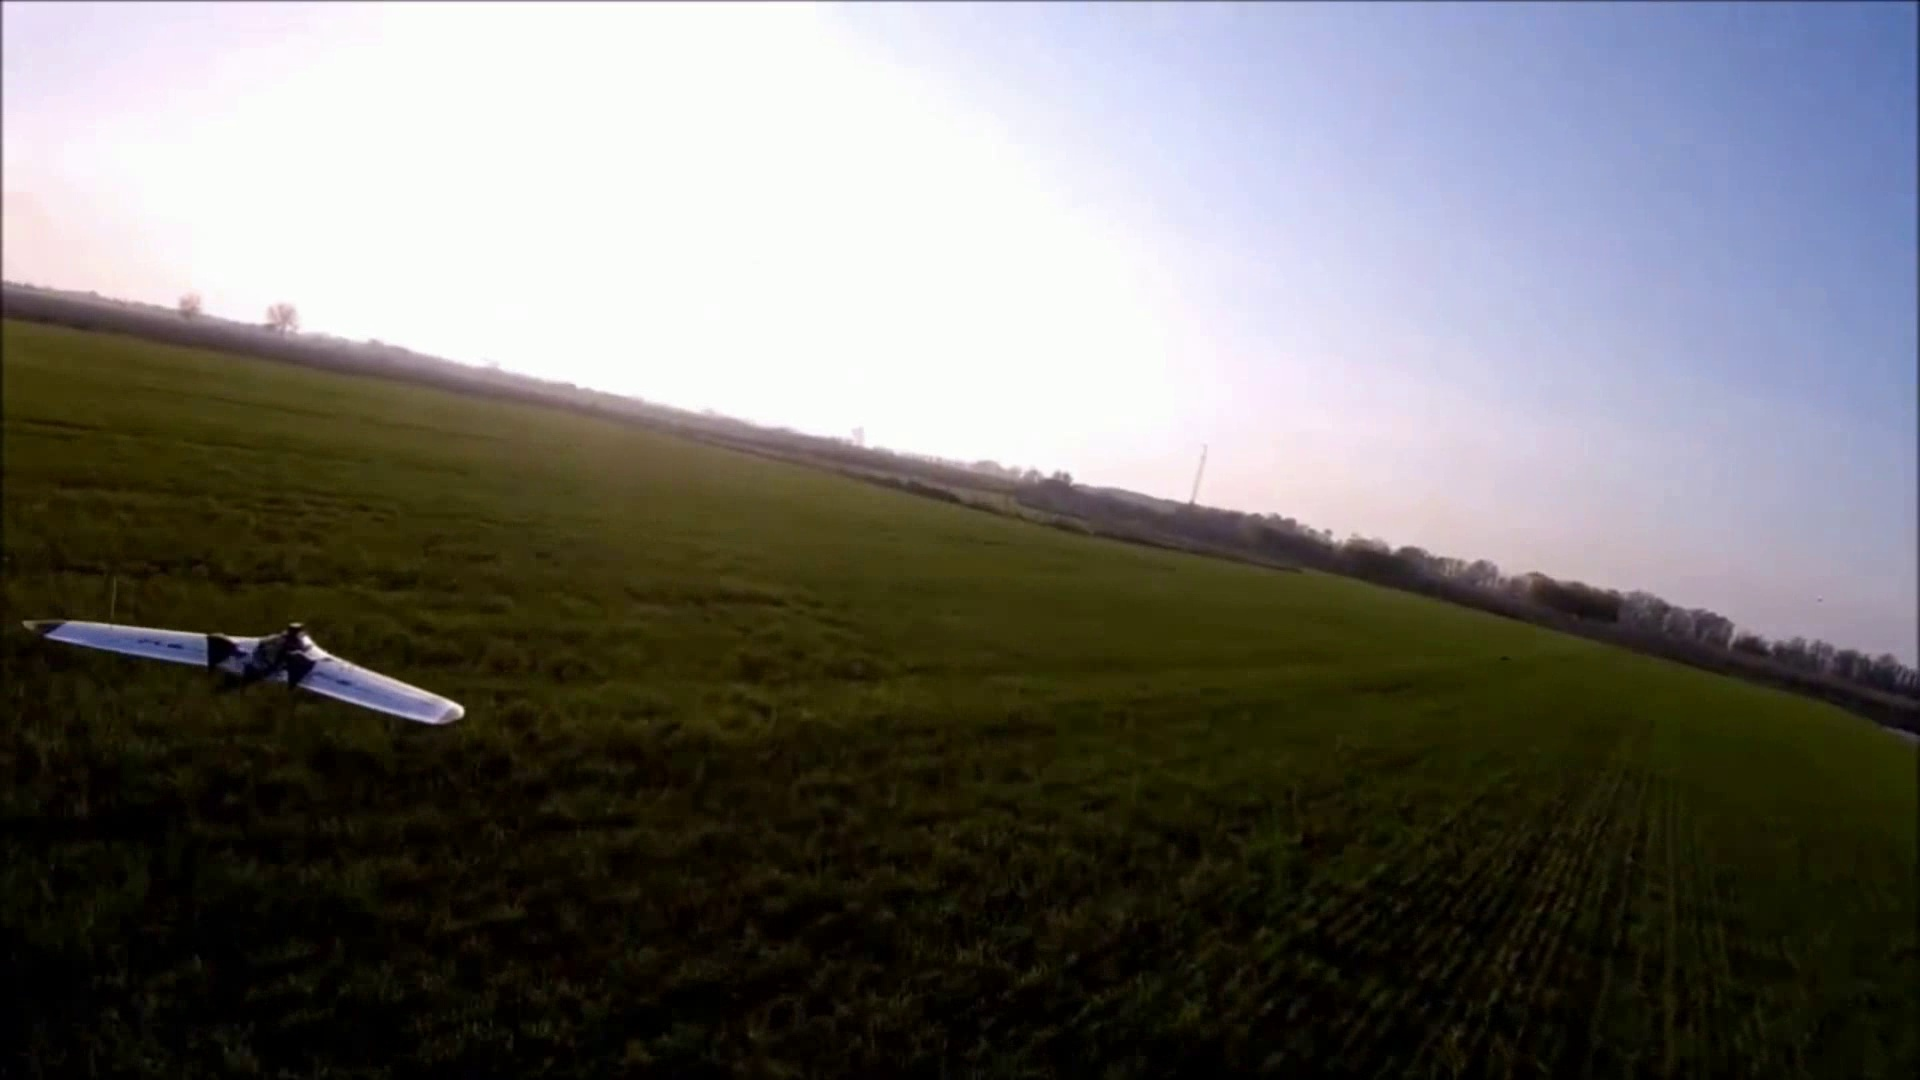airplane: (32, 619, 466, 731)
